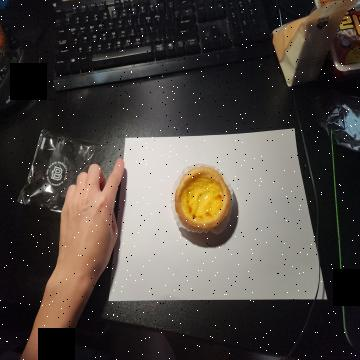EggTart: (175, 165, 231, 232)
